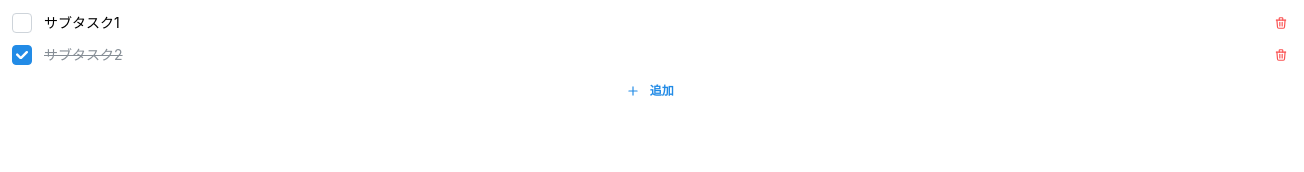
Test: SubTaskList › キャンセルボタンで入力をキャンセルできる
The image size is (1304, 172).
Note: 追加ボタンをクリック
Click the button "追加". click: (652, 91)
box: [12,76,1292,106]
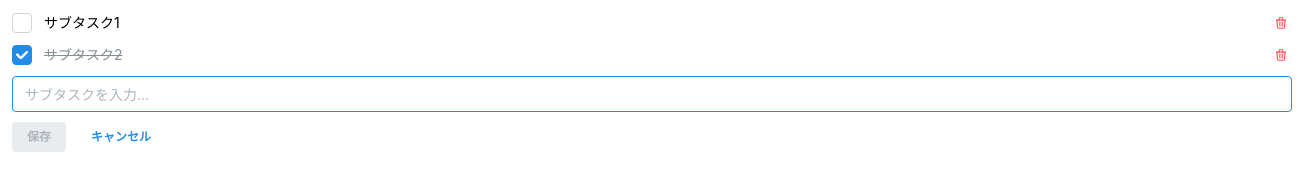
Note: サブタスクタイトルを入力
Type "新しいサブタスク" into the field with placeholder "サブタスクを入力...". click: (652, 94)
box: [12,76,1292,112]
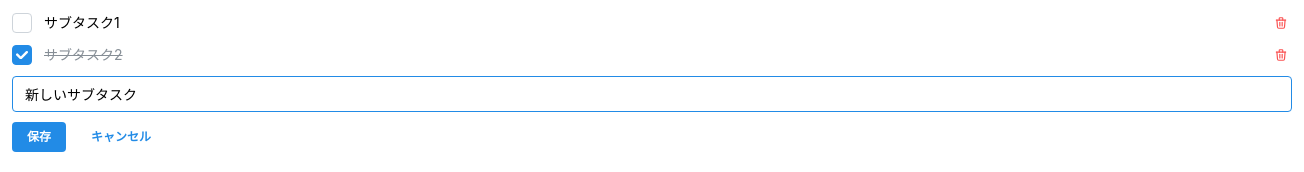
Note: キャンセルボタンをクリック
Click the button "キャンセル". click: (121, 137)
box: [76,122,166,152]
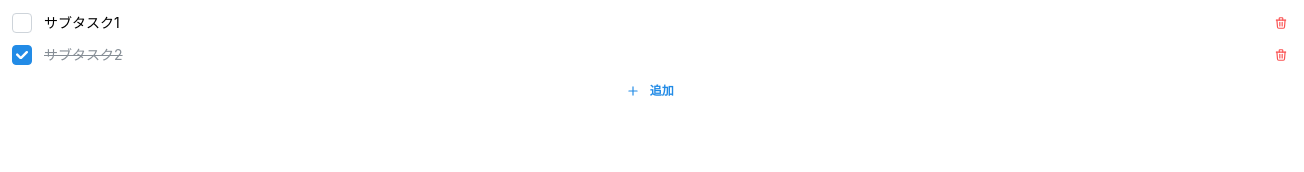
Check: the field with placeholder "サブタスクを入力..." is gone
